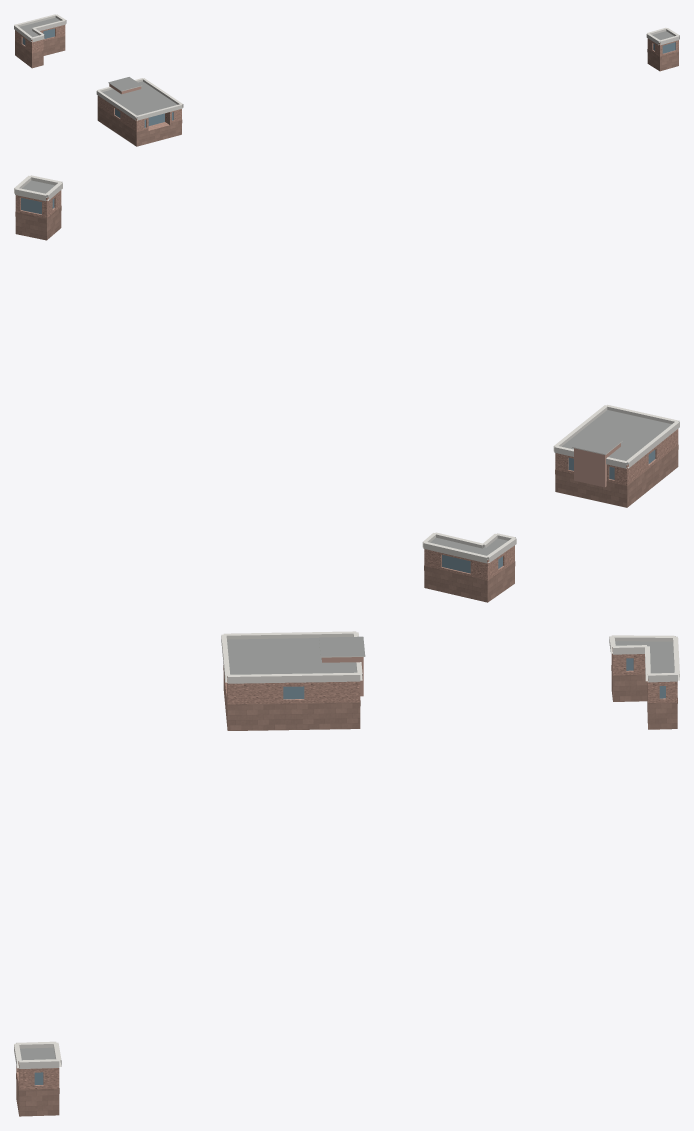
3 views of the same model, one above another, from view 1: azimuth 30°, elevation 25°; view 2: azimuth 150°, elevation 25°; view 3: azimuth 270°, elevation 25° (orthographic). The views are drawn at different scales.
Parts seen in each view (by area): view 1: californiaBakeryE6_5__base, californiaBakeryE6_5__roof, californiaBakeryE6_5__trim, californiaBakeryE6_5__wall, californiaBakeryE6_5__glass; view 2: californiaBakeryE6_5__base, californiaBakeryE6_5__roof, californiaBakeryE6_5__trim, californiaBakeryE6_5__wall, californiaBakeryE6_5__wall2, californiaBakeryE6_5__glass; view 3: californiaBakeryE6_5__base, californiaBakeryE6_5__roof, californiaBakeryE6_5__trim, californiaBakeryE6_5__wall.
Boxes of the visible parts, x1,y1,x2,y2 form: californiaBakeryE6_5__base: (15,36,678,146); californiaBakeryE6_5__roof: (19,17,673,118); californiaBakeryE6_5__trim: (14,14,679,120); californiaBakeryE6_5__wall: (15,25,678,134); californiaBakeryE6_5__glass: (22,28,675,127); californiaBakeryE6_5__base: (15,206,678,602); californiaBakeryE6_5__roof: (22,180,671,560); californiaBakeryE6_5__trim: (14,175,679,563); californiaBakeryE6_5__wall: (15,190,678,584); californiaBakeryE6_5__wall2: (574,443,620,487); californiaBakeryE6_5__glass: (21,198,655,573); californiaBakeryE6_5__base: (16,665,677,1116); californiaBakeryE6_5__roof: (18,636,674,1064); californiaBakeryE6_5__trim: (14,631,679,1068); californiaBakeryE6_5__wall: (16,647,677,1094).
Size of the model in its own units: 111 by 7.35 by 71.75.
Materials: 6 (2 with a texture image).
